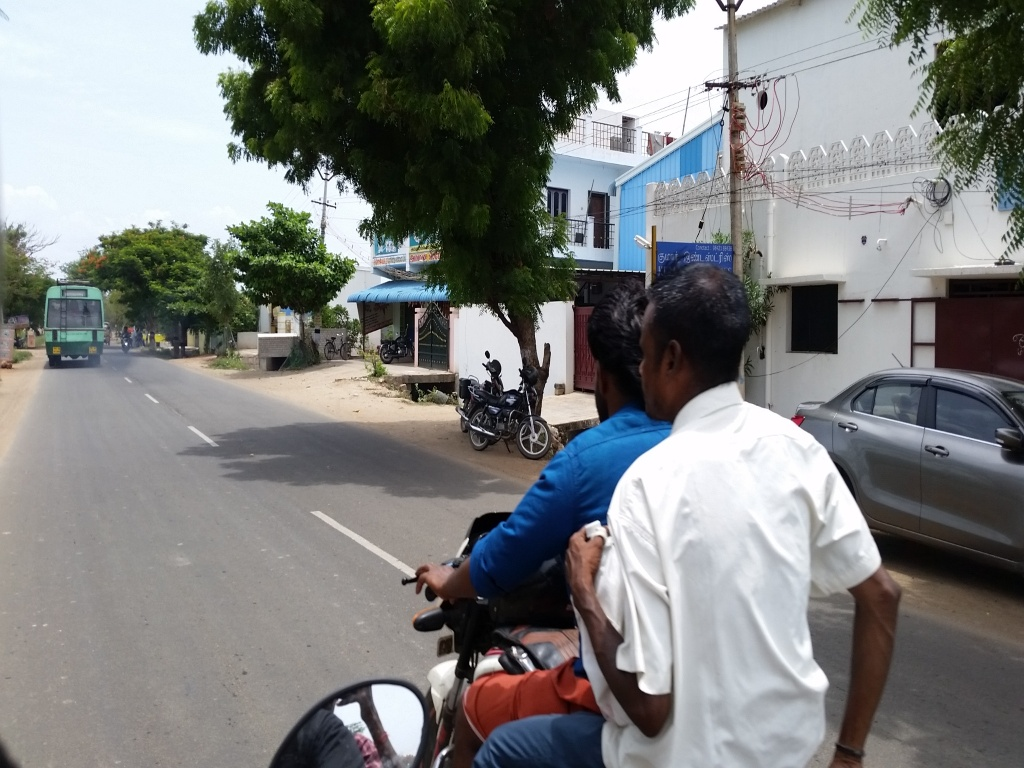biker: (361, 217, 926, 768)
nohelmet: (641, 245, 772, 441), (580, 263, 642, 436)
